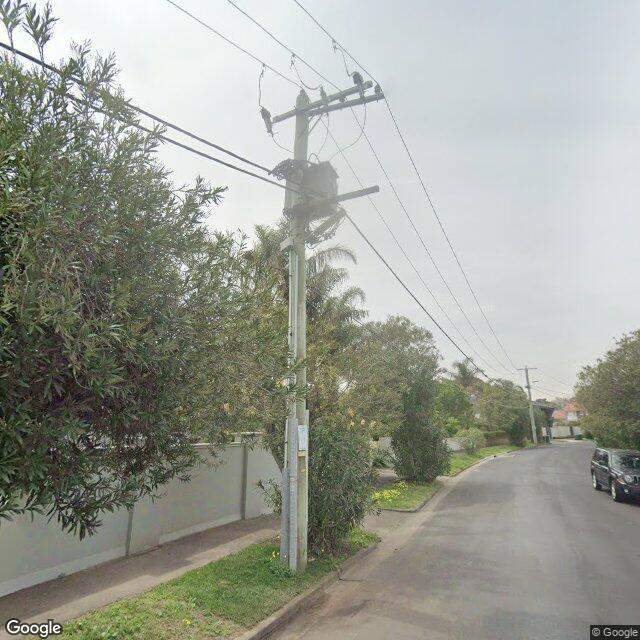HV-transmission: (260, 72, 364, 134), (299, 84, 382, 102)
crossarm: (272, 80, 373, 122), (283, 186, 379, 214), (304, 92, 384, 116), (516, 368, 538, 370)
timber-pole: (287, 95, 309, 572), (525, 365, 537, 444)
transformer: (285, 161, 339, 220)
